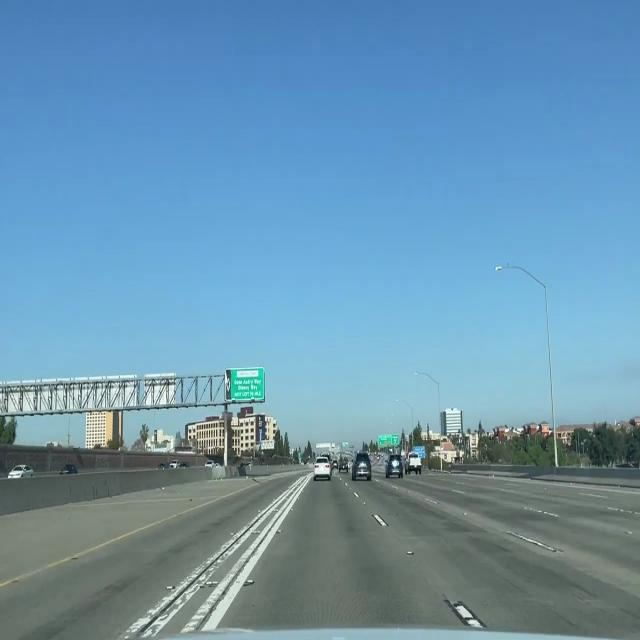street-signs: (231, 366, 265, 401), (379, 433, 391, 446), (392, 434, 399, 446)
